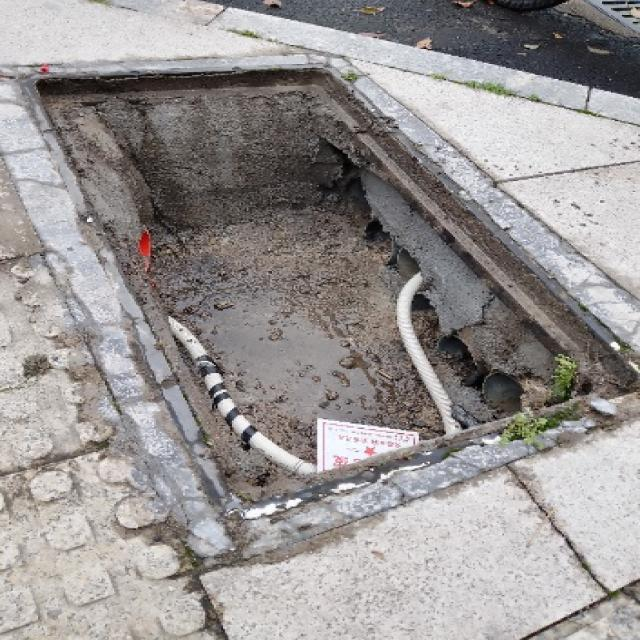Faulty: (7, 51, 640, 545)
